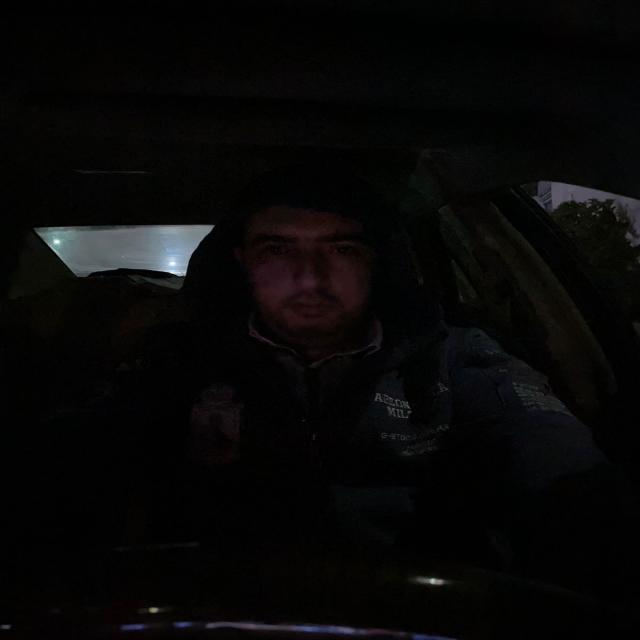person: (224, 195, 390, 341)
